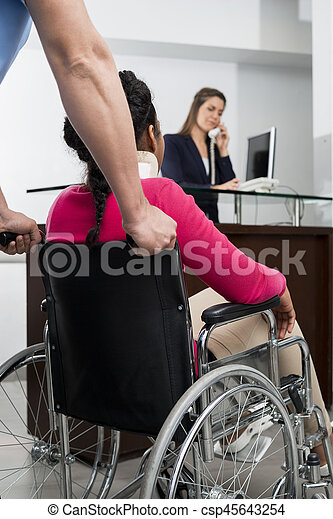wheelchair: (4, 69, 332, 500)
